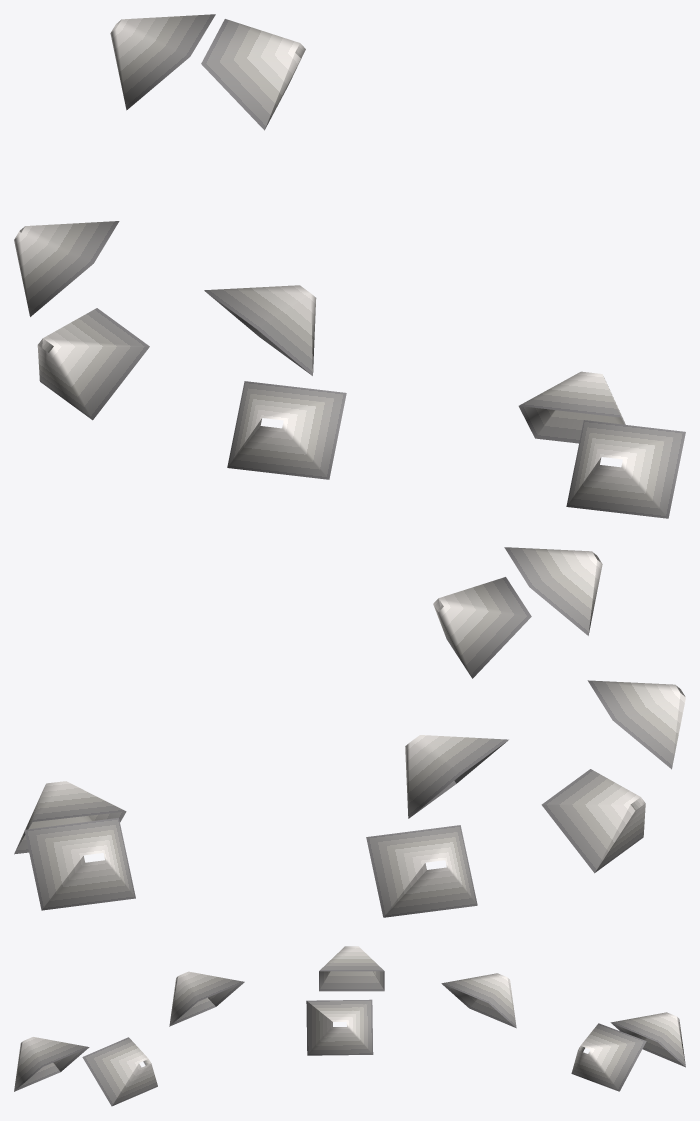
The model's file is STG0100_G_15.fbx.
3 renders of one model, top to bottom at view 1: azimuth 30°, elevation 25°; view 2: azimuth 150°, elevation 25°; view 3: azimuth 270°, elevation 25°, orthographic. The views are drawn at different scales.
Parts seen in each view (by area): view 1: STG0100_G_15_s0400_dn017; view 2: STG0100_G_15_s0400_dn017; view 3: STG0100_G_15_s0400_dn017.
Part boxes in pixels (x1=…): STG0100_G_15_s0400_dn017: x1=14, y1=14, x2=685, y2=518; STG0100_G_15_s0400_dn017: x1=14, y1=547, x2=685, y2=917; STG0100_G_15_s0400_dn017: x1=14, y1=946, x2=685, y2=1106.
Bounding box in the file's own units: 392 × 93.22 × 795.
